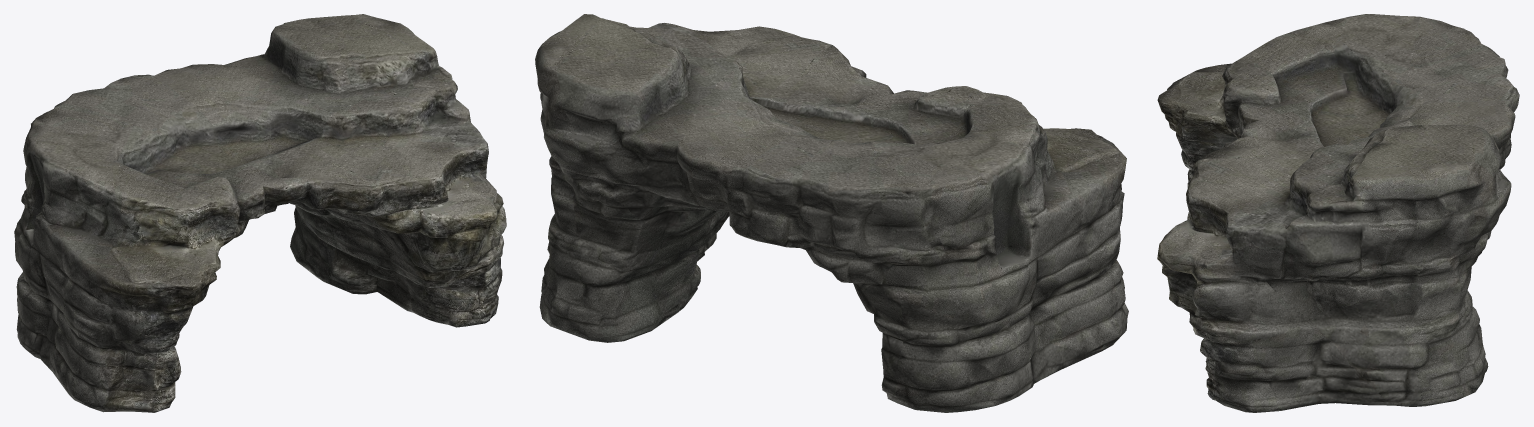
The model's file is rock_arch.glb.
3 renders of one model, left to right at view 1: azimuth 30°, elevation 25°; view 2: azimuth 150°, elevation 25°; view 3: azimuth 270°, elevation 25°, orthographic. The views are drawn at different scales.
Parts seen in each view (by area): view 1: rock_arch; view 2: rock_arch; view 3: rock_arch.
Boxes of the visible parts, x1,y1,x2,y2 form: rock_arch: [14, 14, 506, 412]; rock_arch: [535, 14, 1128, 412]; rock_arch: [1157, 14, 1519, 412].
Size of the model in its own units: 1.9 by 0.9474 by 1.35.
1 material, 1 textured.
